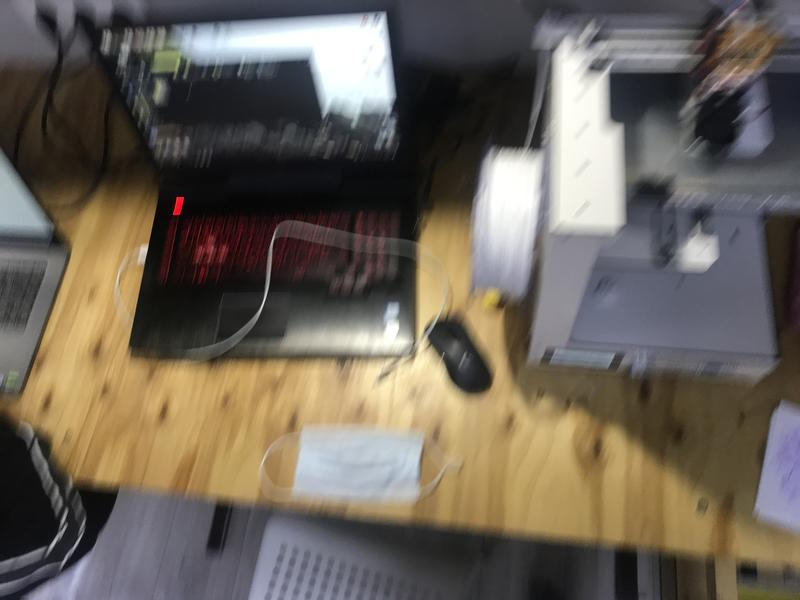medical_mask: (259, 425, 462, 498)
